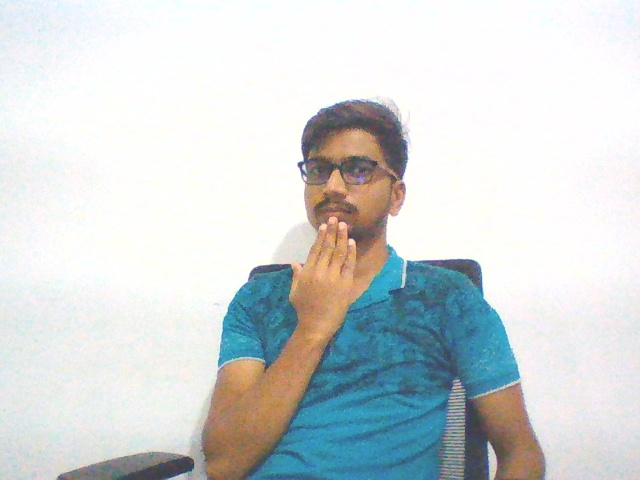mango: (281, 211, 364, 347)
